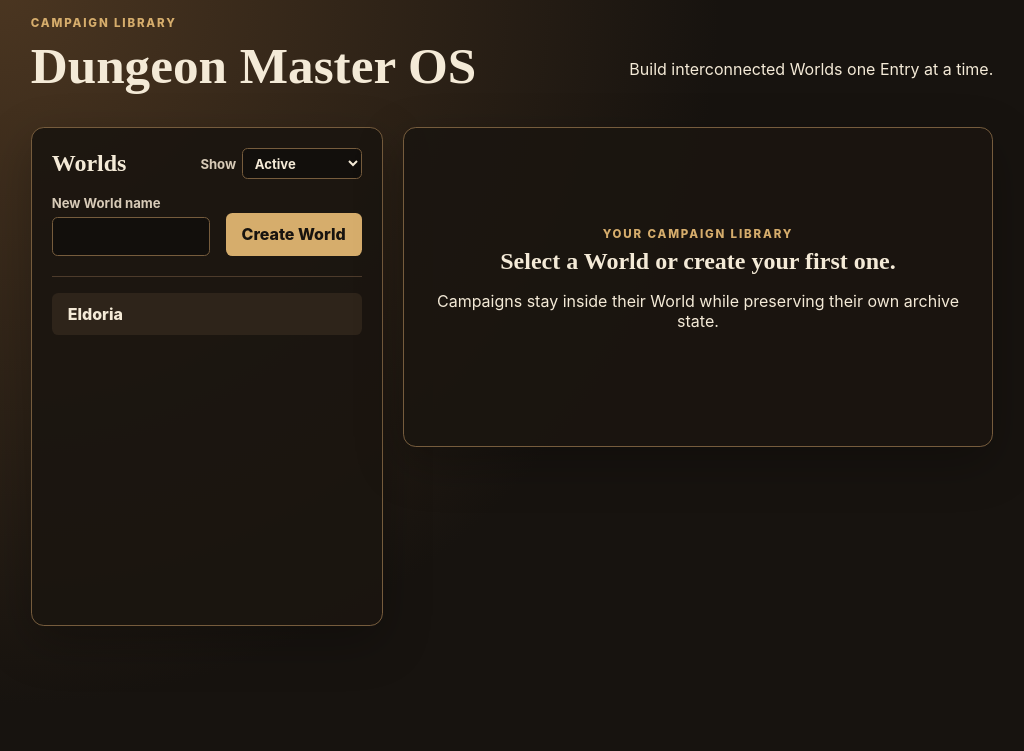
Scenario: World and Campaign management › lists and opens Worlds, then lists and opens their Campaigns
This screenshot has width=1024, height=751.
Click the button "Eldoria" at [95, 314], box [52, 293, 362, 335]
(page scrolled)
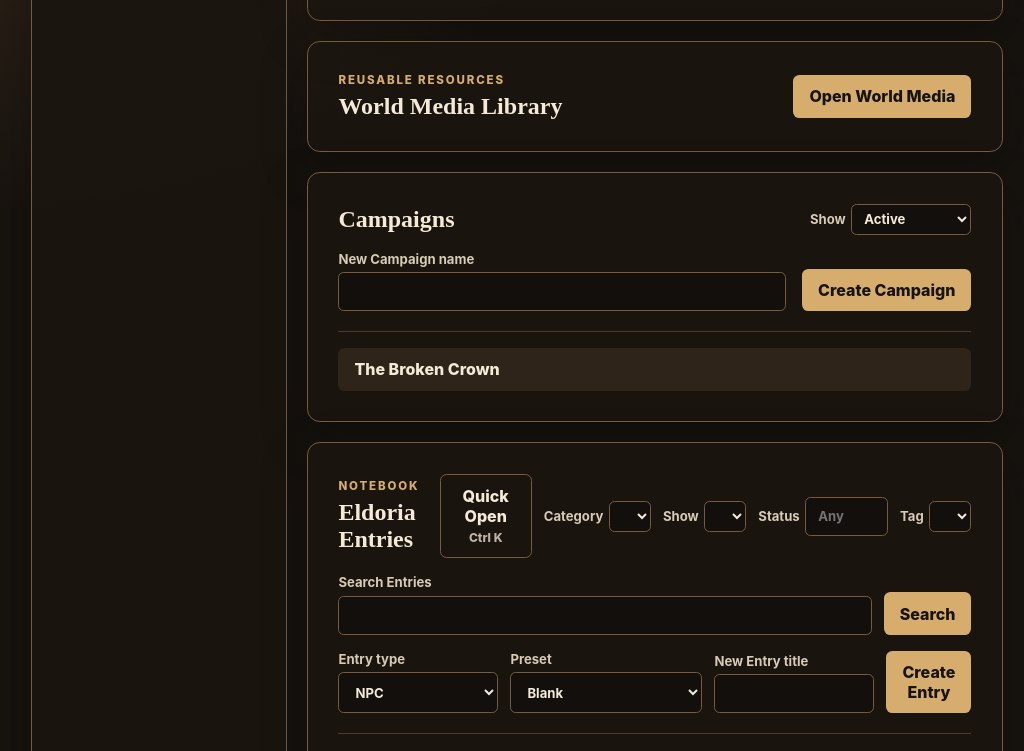
Click the button "The Broken Crown" at [427, 369], box [338, 348, 971, 391]
(page scrolled)
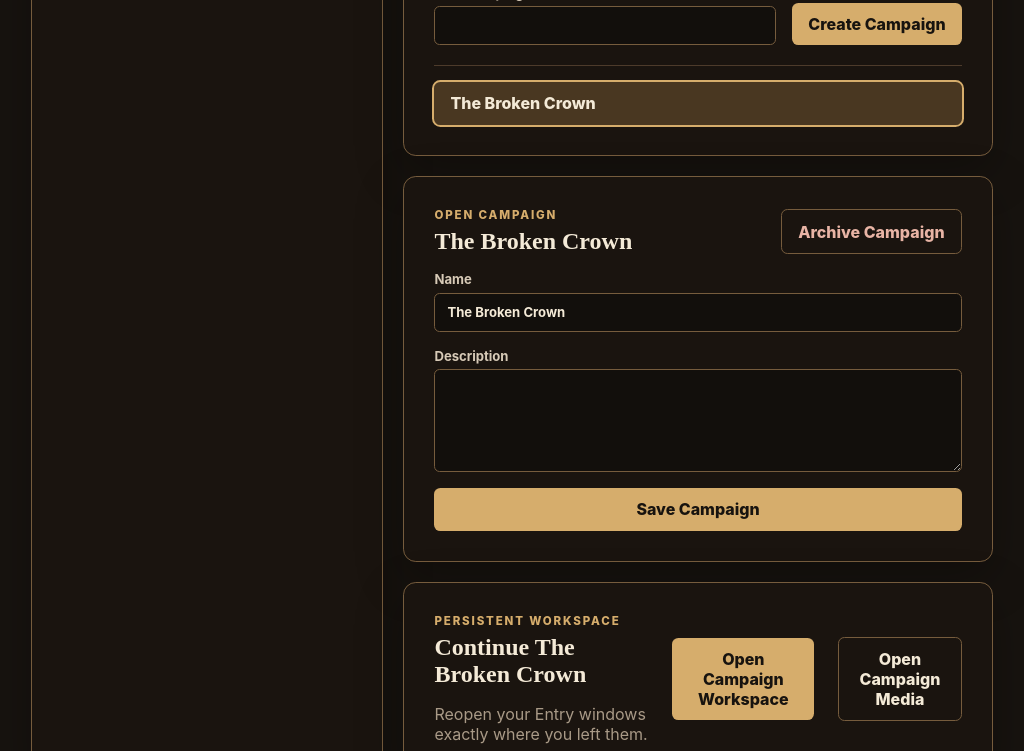
Now the element named "Campaign details" is shown, box [403, 176, 993, 562]
